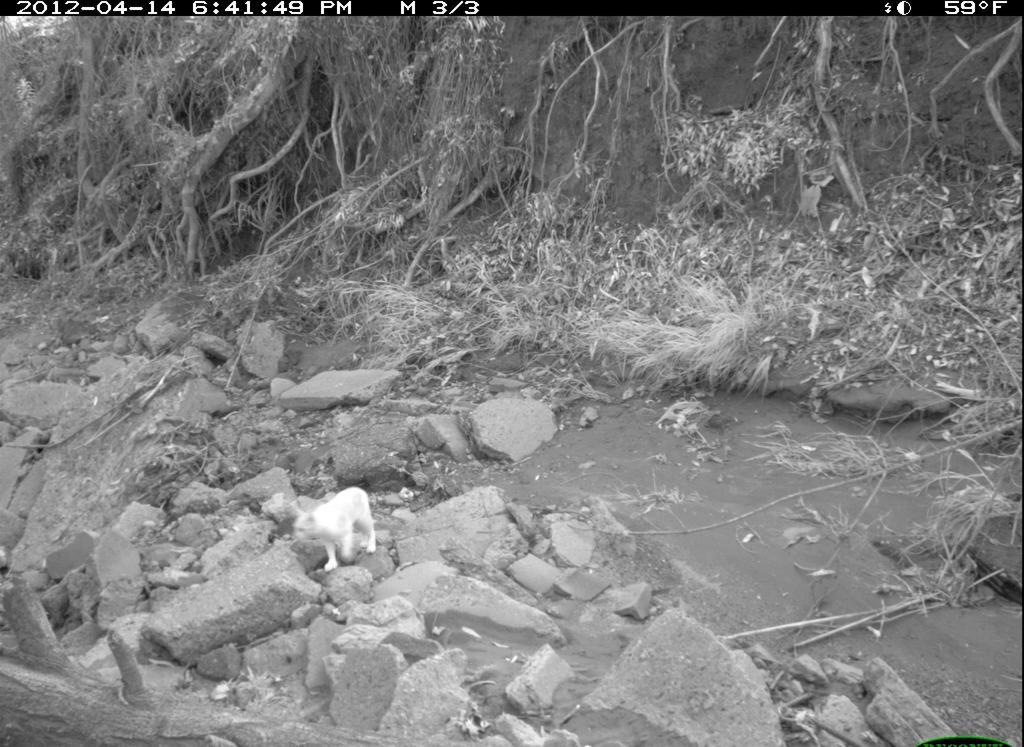cat: (271, 478, 400, 603)
